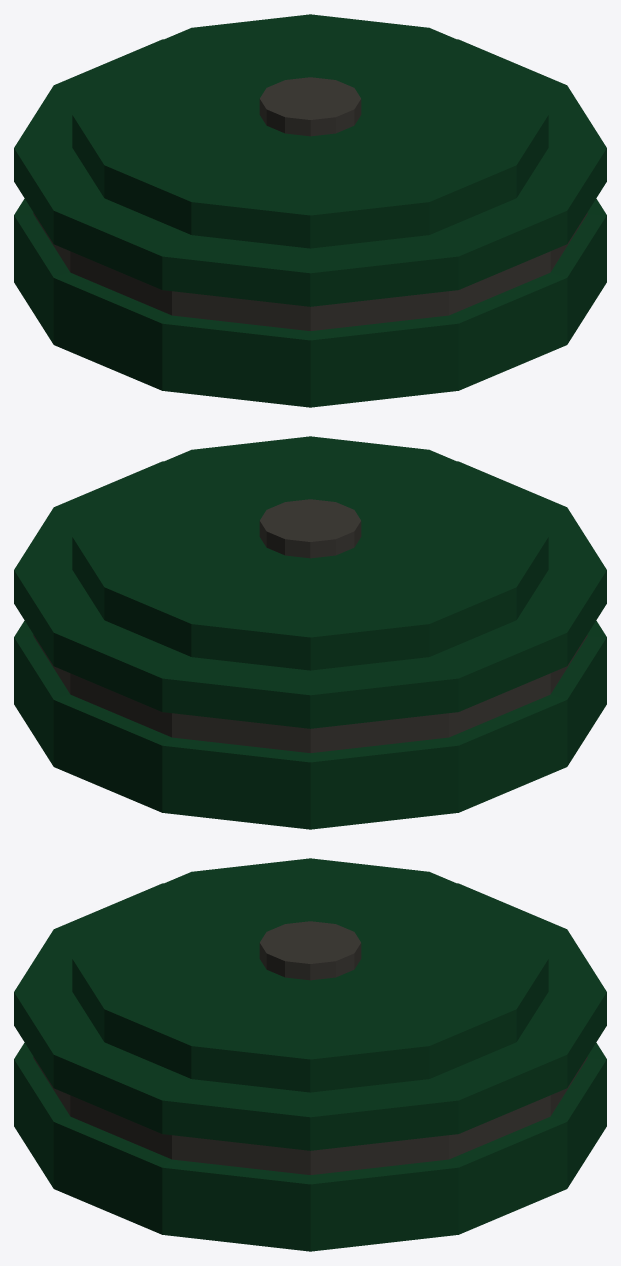
File: Mine.fbx
3 views of the same model, one above another, from view 1: azimuth 30°, elevation 25°; view 2: azimuth 150°, elevation 25°; view 3: azimuth 270°, elevation 25° (orthographic).
Visible parts, largest first — view 1: Mine; view 2: Mine; view 3: Mine.
Boxes of the visible parts, x1=… form: Mine: x1=14, y1=14, x2=606, y2=407; Mine: x1=14, y1=436, x2=606, y2=829; Mine: x1=14, y1=858, x2=606, y2=1251.
Bounding box in the file's own units: 2 × 0.6836 × 2.
